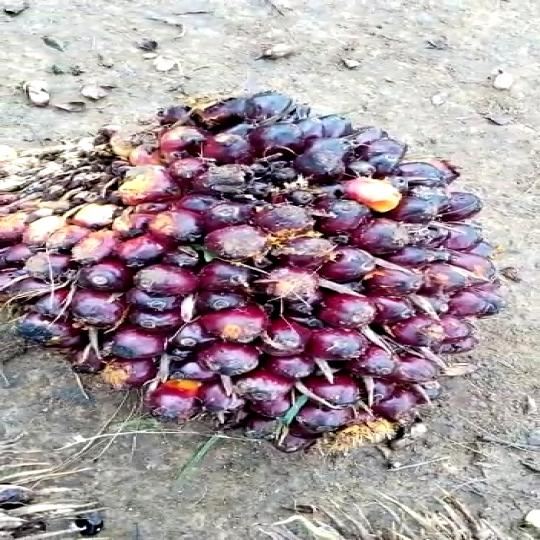mentah: (0, 80, 502, 453)
